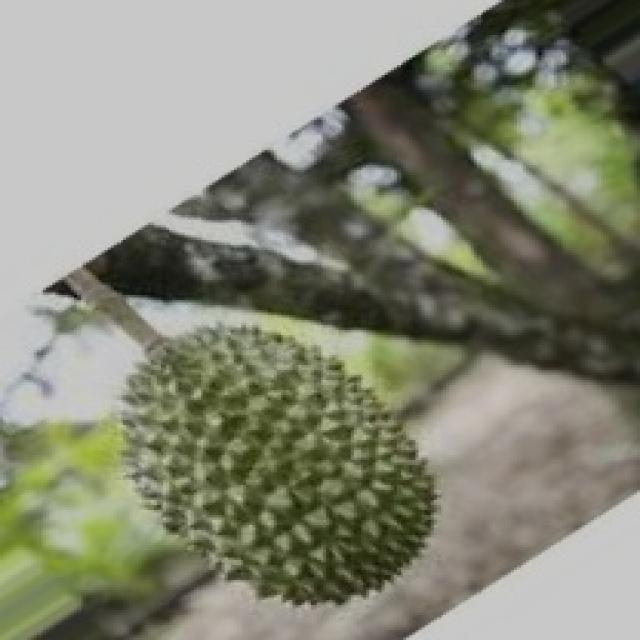fruit: (64, 267, 470, 640)
